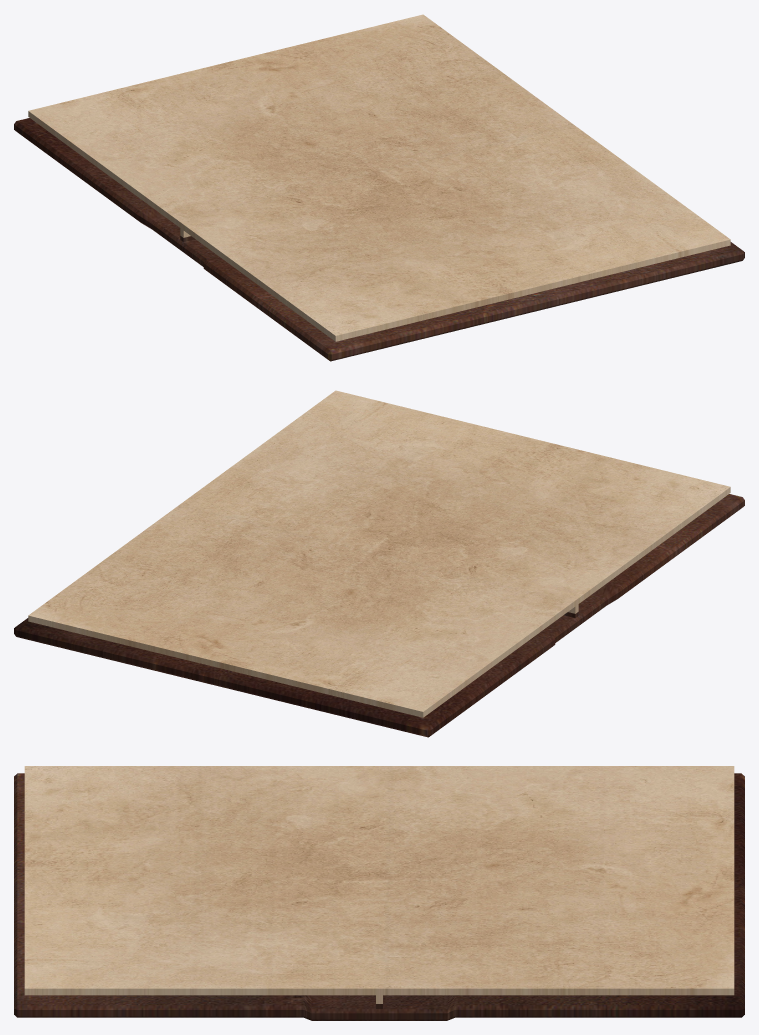
The model's file is book.fbx.
The picture shows the model from 3 angles, top to bottom: view 1: azimuth 30°, elevation 25°; view 2: azimuth 150°, elevation 25°; view 3: azimuth 270°, elevation 25°; orthographic projection. The views are drawn at different scales.
Visible parts, largest first — view 1: pCube1; view 2: pCube1; view 3: pCube1.
Boxes of the visible parts, x1,y1,x2,y2 form: pCube1: [14, 14, 744, 361]; pCube1: [14, 390, 744, 737]; pCube1: [14, 766, 744, 1020].
Size of the model in its own units: 6.6 by 0.4225 by 8.68.
Materials: 1 (1 with a texture image).
